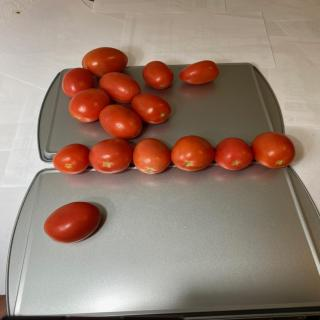Tomato: (44, 202, 100, 244), (250, 132, 296, 168), (88, 138, 134, 174), (170, 135, 214, 172), (99, 104, 142, 140), (69, 88, 110, 123), (82, 47, 128, 77), (133, 138, 171, 174), (99, 72, 141, 104), (215, 137, 253, 171), (131, 93, 171, 124), (52, 144, 90, 174), (179, 60, 219, 85), (142, 60, 174, 90), (62, 68, 94, 98)
